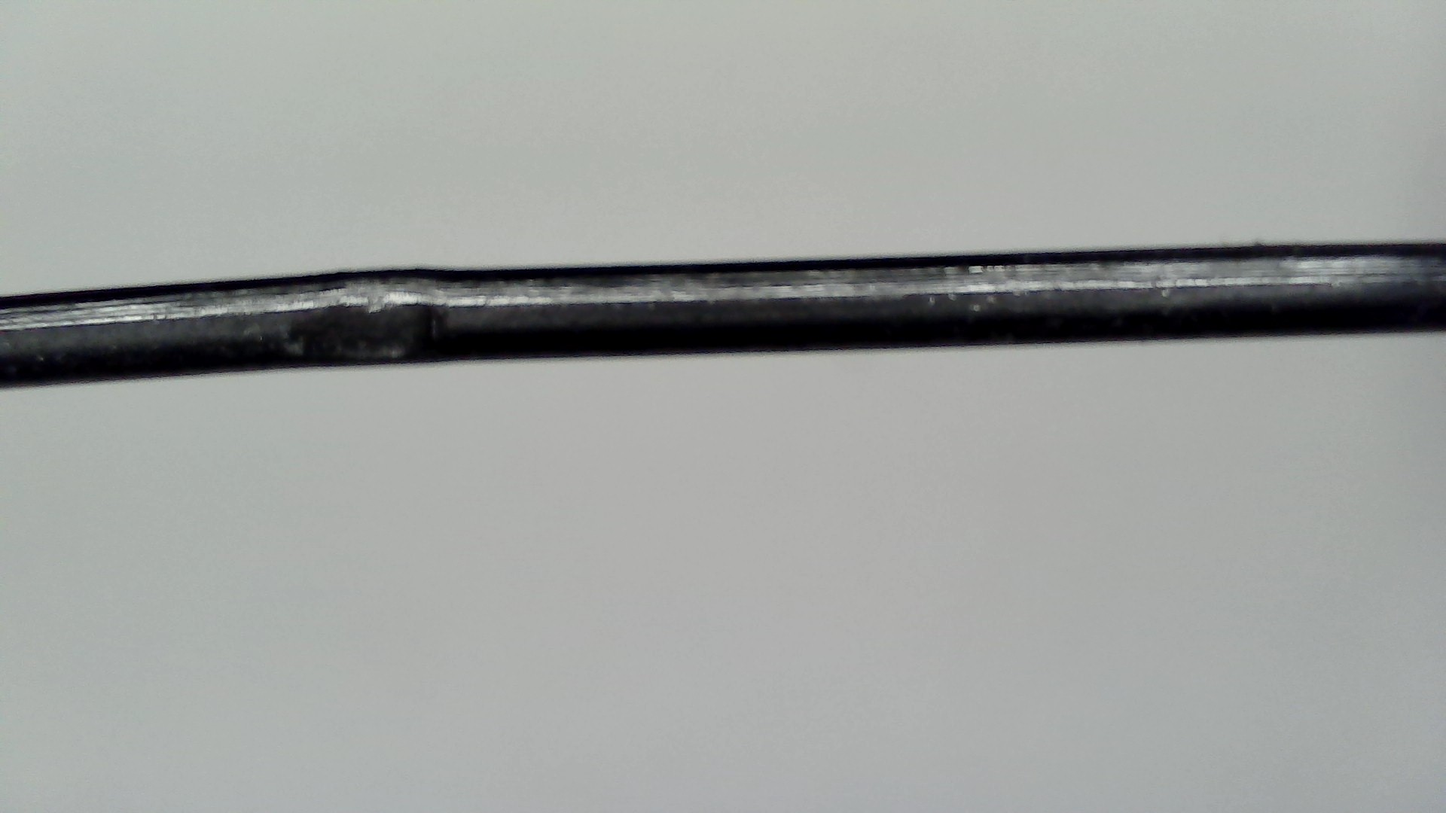defect: (251, 299, 518, 368)
